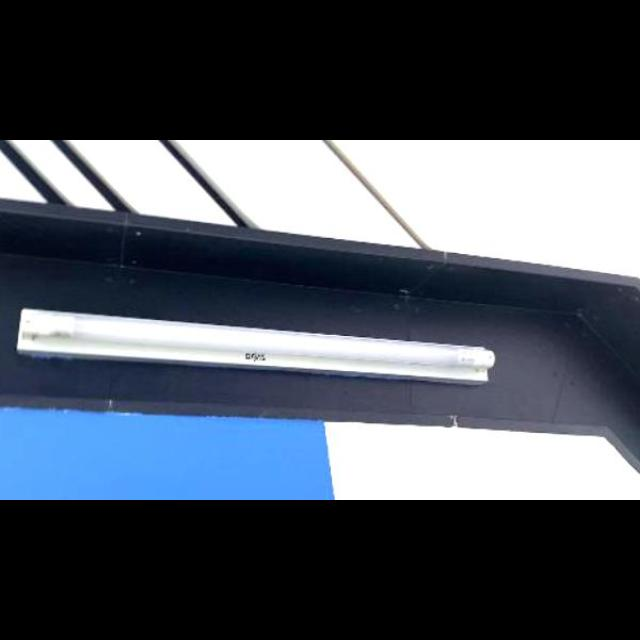Straight-Tube-Fluorescent-Lamp: (0, 288, 508, 402), (634, 434, 640, 501)
